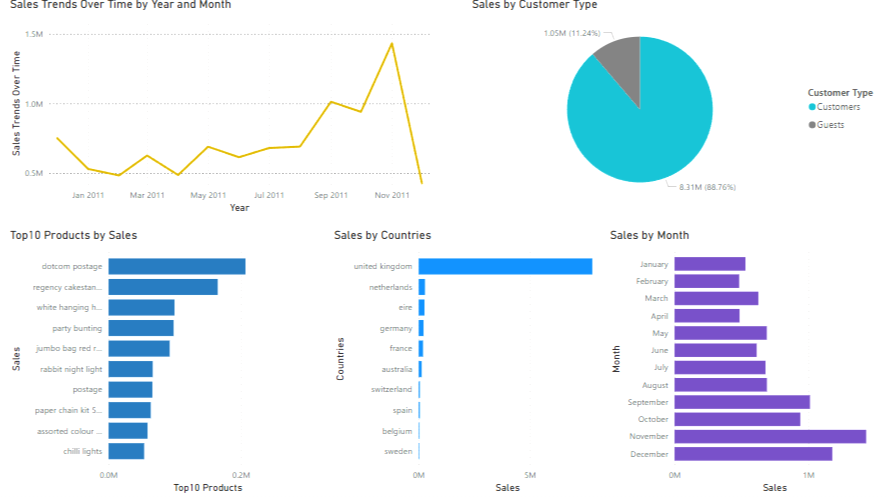

The dashboard page shown, as its layout file describes it:
{"tool":"powerbi","page":{"name":"Sales Dashboard","canvas":[1280,720],"ordinal":0},"visuals":[{"type":"lineChart","fields":{"Y":["Sum(Sheet1.TotalPrice)"],"Category":["Sheet1.InvoiceDate.Variation.Date Hierarchy.Year","Sheet1.InvoiceDate.Variation.Date Hierarchy.Month"]},"box":[10.1,0,629.3,316.8],"z":0},{"type":"pieChart","fields":{"Y":["Sum(Sheet1.TotalPrice)"],"Category":["Sheet1.CustomerID_fag"]},"box":[675.4,0,604.8,305.3],"z":1000},{"type":"clusteredBarChart","fields":{"Y":["Sum(Sheet1.TotalPrice)"],"Category":["Sheet1.InvoiceDate.Variation.Date Hierarchy.Month"]},"box":[874.1,332.6,406.1,387.4],"z":2000},{"type":"clusteredBarChart","fields":{"Category":["Sheet1.Description"],"Y":["Sum(Sheet1.TotalPrice)"]},"box":[10.1,332.6,452.2,387.4],"z":3000},{"type":"clusteredBarChart","fields":{"Category":["Sheet1.Country"],"Y":["Sum(Sheet1.TotalPrice)"]},"box":[476.6,332.6,397.4,387.4],"z":4000}]}

Visuals, with their boxes in screenshot pixels (x1, y1, x2, y2), scaled from the page's 1280x720 canvas onto the 886x497 screenshot:
lineChart - Sum(Sheet1.TotalPrice) x Sheet1.InvoiceDate.Variation.Date Hierarchy.Year: bbox=(7, 0, 443, 219)
pieChart - Sum(Sheet1.TotalPrice) x Sheet1.CustomerID_fag: bbox=(468, 0, 885, 211)
clusteredBarChart - Sum(Sheet1.TotalPrice) x Sheet1.InvoiceDate.Variation.Date Hierarchy.Month: bbox=(605, 230, 885, 496)
clusteredBarChart - Sheet1.Description x Sum(Sheet1.TotalPrice): bbox=(7, 230, 320, 496)
clusteredBarChart - Sheet1.Country x Sum(Sheet1.TotalPrice): bbox=(330, 230, 605, 496)
